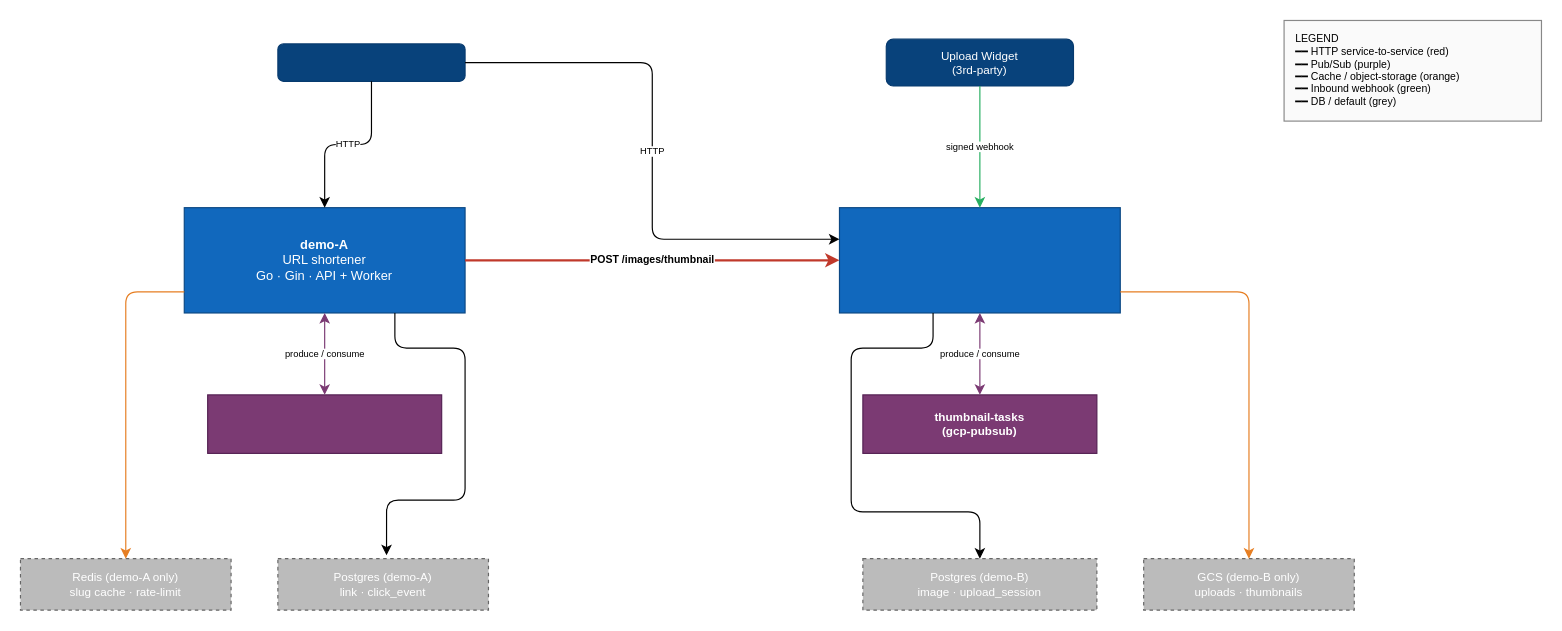
Some shapes in this 1562 by 631 pixel diagram are drawn without their labels. The box of each missing label's shape, as (x1, y1, x2, y2) in pixels:
demo-B Image processing Go · Gin · API + Worker: (838, 207, 1120, 313)
End User / Browser: (277, 43, 465, 81)
link-clicks (gcp-pubsub): (207, 394, 442, 453)
